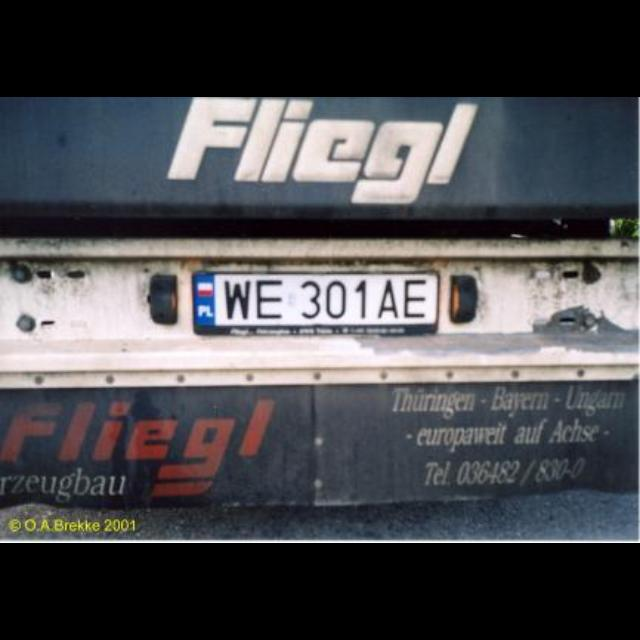pl_license_plate: (192, 273, 434, 323)
